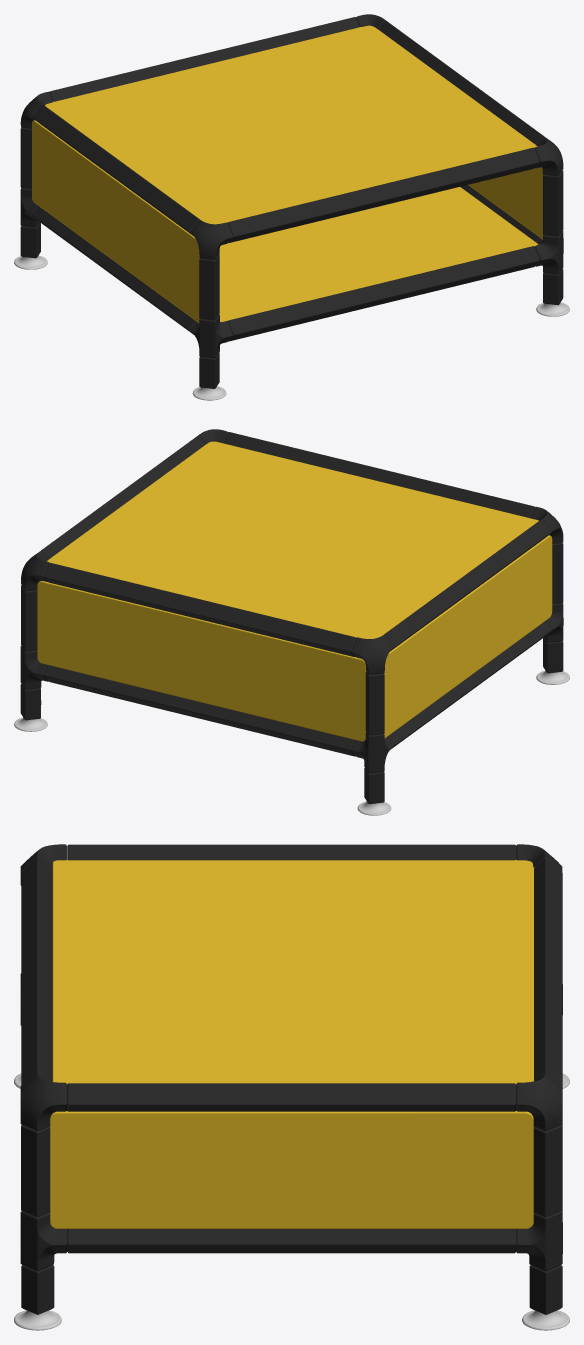
3 views of the same model, one above another, from view 1: azimuth 30°, elevation 25°; view 2: azimuth 150°, elevation 25°; view 3: azimuth 270°, elevation 25° (orthographic). The views are drawn at different scales.
Visible parts, largest first — view 1: 420x374x79; view 2: 420x374x79; view 3: 420x374x79.
Part boxes in pixels (x1,y1,x2,y2): 420x374x79: (14,14,569,400); 420x374x79: (14,429,569,815); 420x374x79: (14,844,569,1330).
Size of the model in its own units: 0.5099 by 0.2183 by 0.4631.
